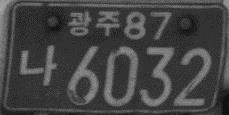0: (102, 45, 138, 107)
2: (174, 46, 212, 107)
3: (139, 45, 174, 109)
6: (65, 44, 100, 106)
7: (149, 10, 171, 41)
8: (123, 10, 147, 40)
광주_O: (67, 7, 120, 36)
나: (17, 43, 59, 87)
